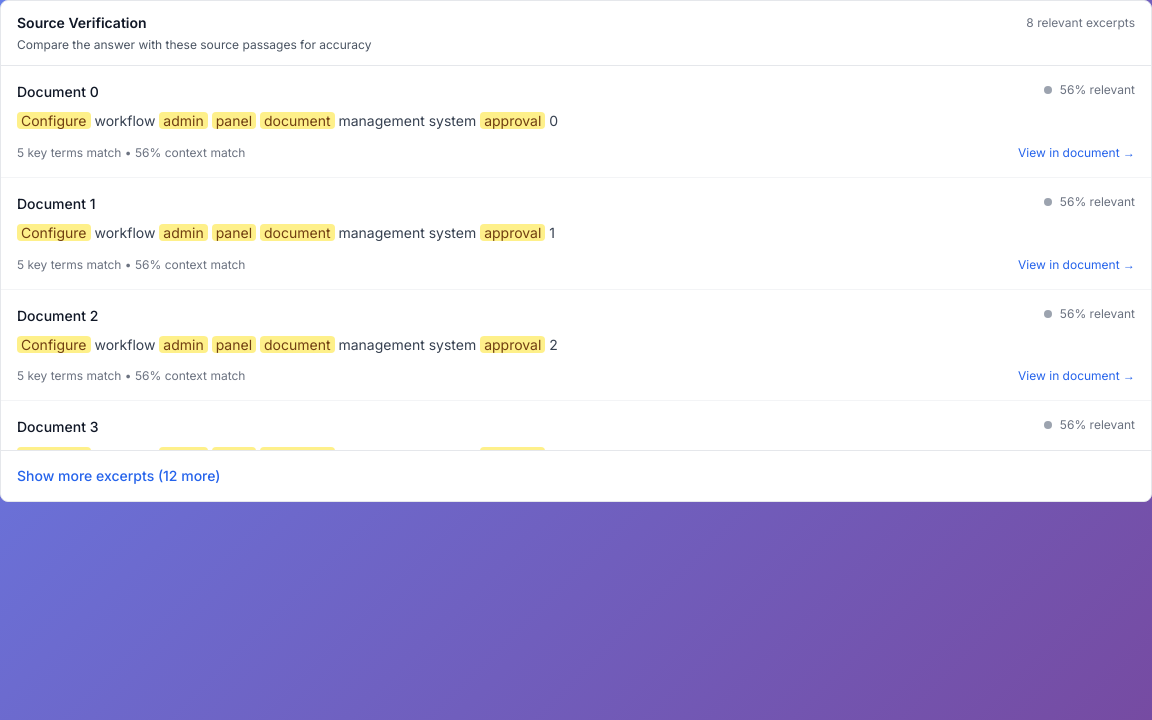
Test: DocumentExcerptPanel › expands to show more excerpts when button is clicked
Click the button "Show more excerpts (12 more)": [119, 476] box [17,466,220,486]
(page scrolled)
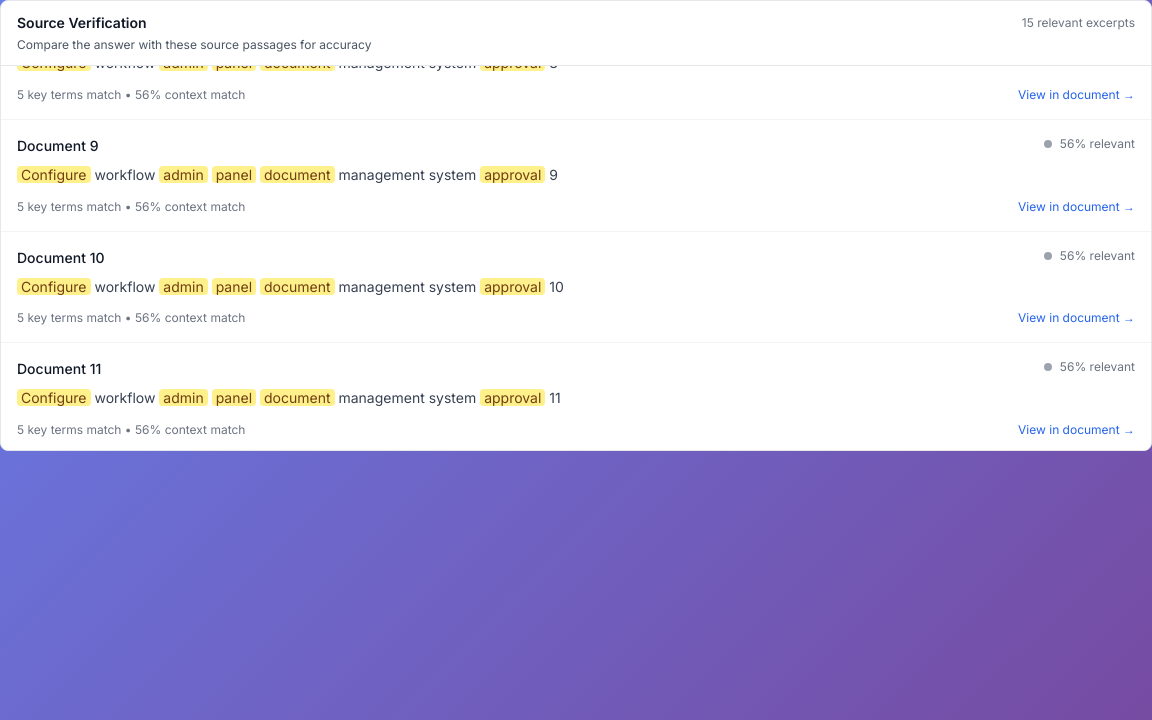
Check: the heading "Document 10" is shown, box [17,248,104,266]
